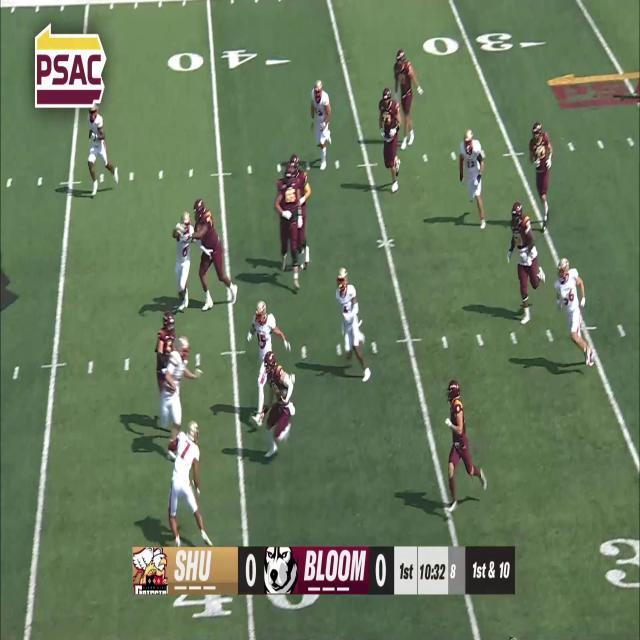football: (278, 387, 288, 402)
